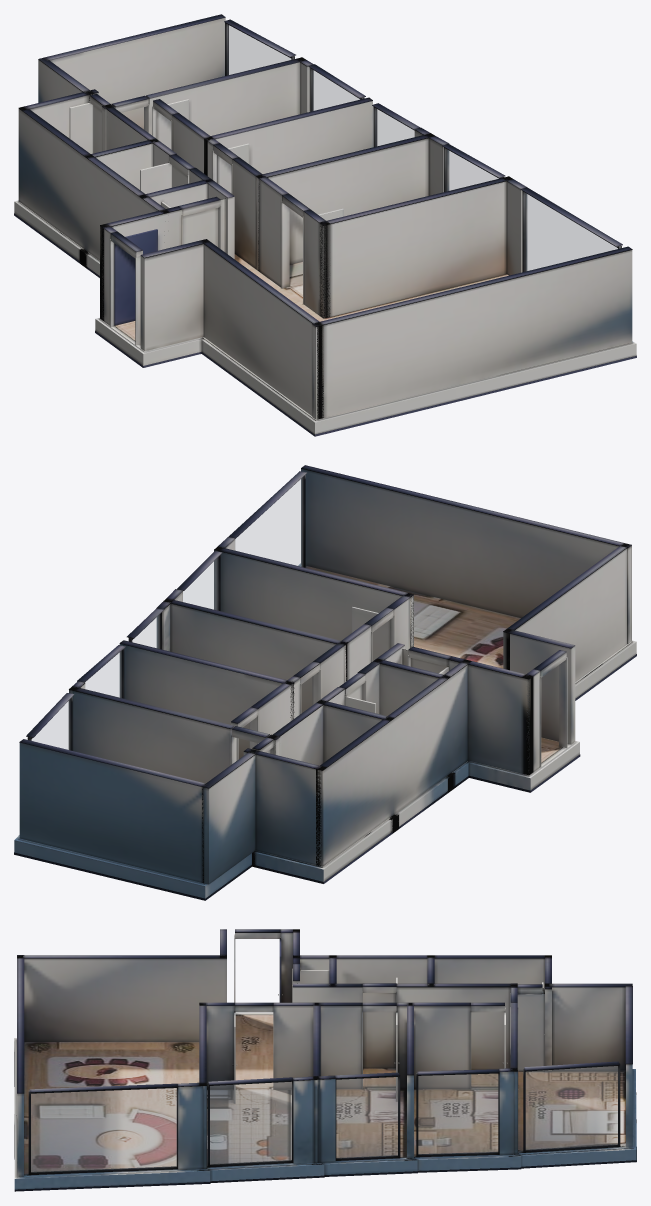
The picture shows the model from 3 angles, top to bottom: view 1: azimuth 30°, elevation 25°; view 2: azimuth 150°, elevation 25°; view 3: azimuth 270°, elevation 25°; orthographic projection. The views are drawn at different scales.
Visible parts, largest first — view 1: plan, glass4_m, glass0_m, glass3_m, glass1_m, glass2_m; view 2: plan, glass4_m, glass3_m, glass1_m, glass0_m; view 3: plan, glass4_m, glass0_m, glass3_m, glass1_m, glass2_m.
Boxes of the visible parts, x1=… form: plan: x1=14, y1=14, x2=636, y2=436; glass4_m: x1=525, y1=193, x2=617, y2=271; glass0_m: x1=228, y1=25, x2=290, y2=74; glass3_m: x1=446, y1=149, x2=498, y2=190; glass1_m: x1=312, y1=70, x2=359, y2=110; glass2_m: x1=376, y1=109, x2=414, y2=145; plan: x1=14, y1=465, x2=636, y2=900; glass4_m: x1=235, y1=478, x2=302, y2=566; glass3_m: x1=183, y1=558, x2=217, y2=609; glass1_m: x1=85, y1=651, x2=121, y2=697; glass0_m: x1=32, y1=700, x2=69, y2=749; plan: x1=14, y1=929, x2=636, y2=1191; glass4_m: x1=31, y1=1088, x2=176, y2=1172; glass0_m: x1=526, y1=1066, x2=617, y2=1149; glass3_m: x1=210, y1=1082, x2=291, y2=1164; glass1_m: x1=418, y1=1074, x2=497, y2=1154; glass2_m: x1=336, y1=1077, x2=397, y2=1158.
Size of the model in its own units: 9.66 by 2.62 by 15.28.
Materials: 2 (1 with a texture image).
